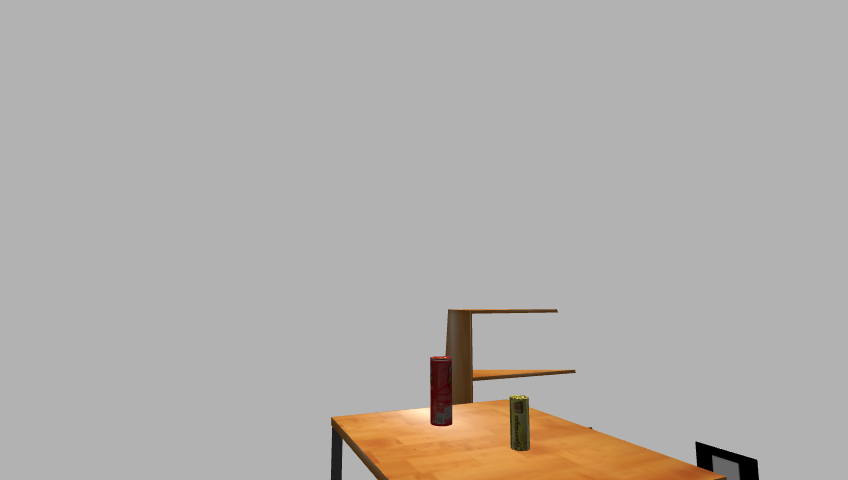aruco marker: (691, 441, 765, 480)
biscuits pack: (508, 395, 531, 453)
bookshelf: (440, 304, 575, 469)
dinner table: (321, 399, 734, 480)
pringles can: (427, 356, 454, 428)
